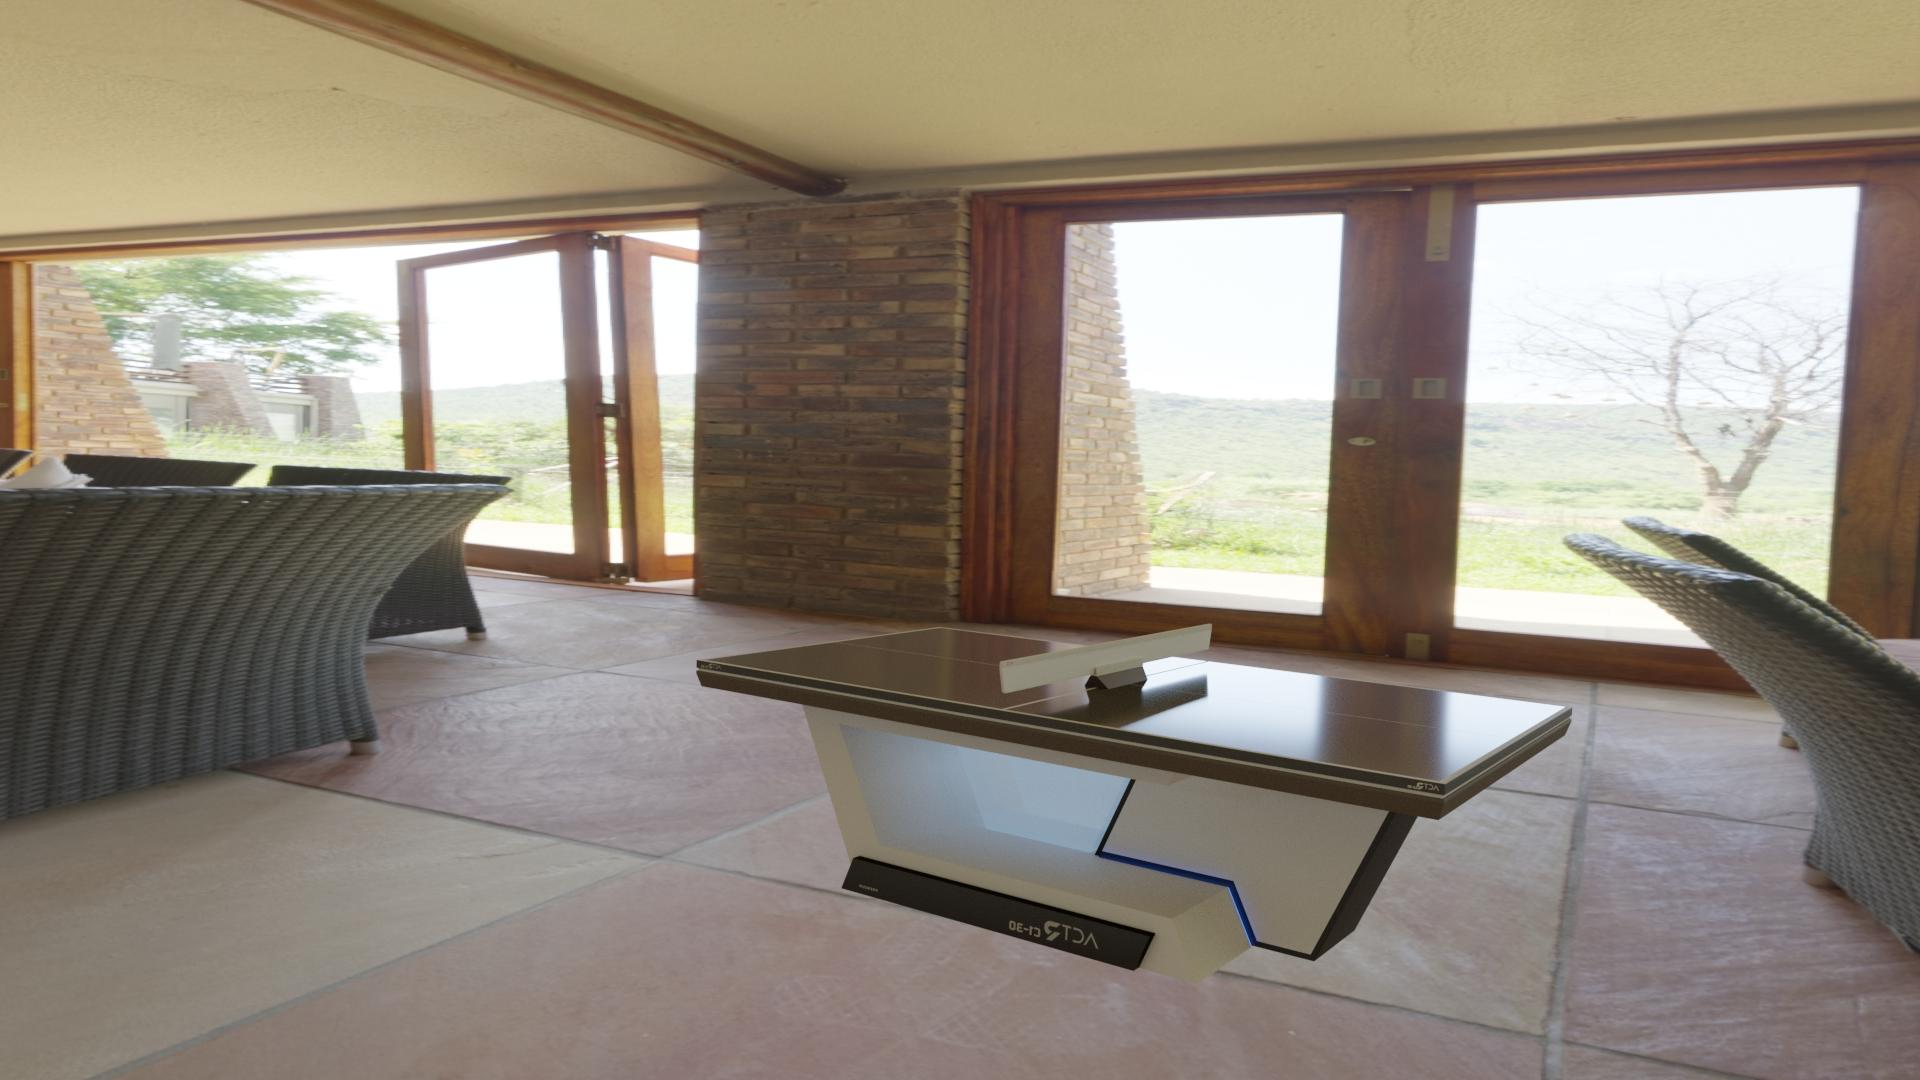table: (704, 628, 1565, 782)
